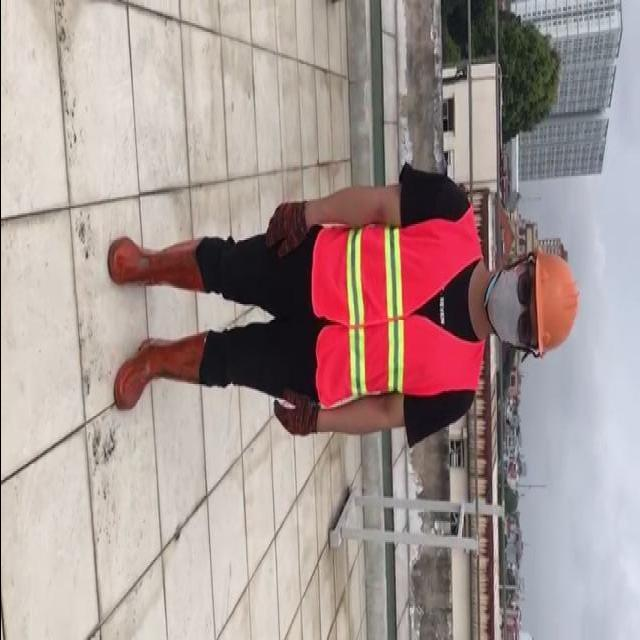boots: (113, 332, 210, 410), (106, 230, 208, 294)
helmet: (96, 161, 586, 464), (532, 242, 578, 361)
vest: (314, 210, 479, 403)
